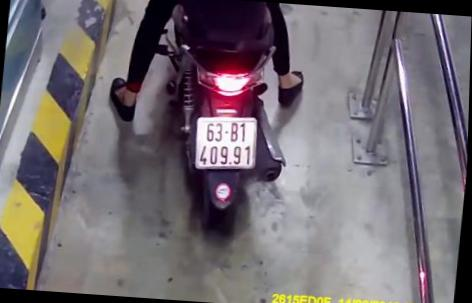LP: (188, 112, 262, 174)
